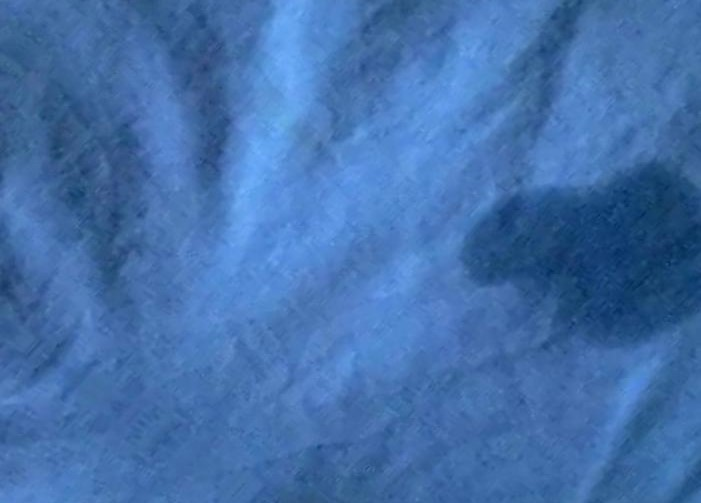stain: (453, 152, 701, 346)
